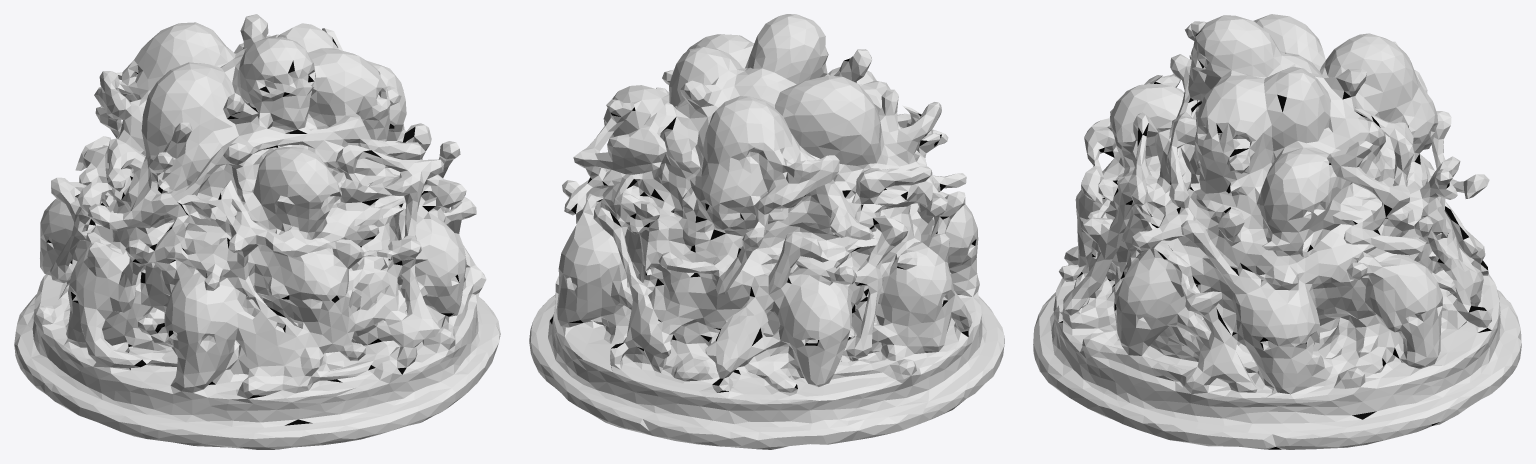
File: cat_bonepile.glb
3 views of the same model, side by side, from view 1: azimuth 30°, elevation 25°; view 2: azimuth 150°, elevation 25°; view 3: azimuth 270°, elevation 25° (orthographic). The views are drawn at different scales.
Visible parts, largest first — view 1: Low; view 2: Low; view 3: Low.
Part boxes in pixels (left/top/right/bottom): Low: left=14, top=14, right=500, bottom=449; Low: left=529, top=14, right=1004, bottom=449; Low: left=1033, top=14, right=1521, bottom=449.
Size of the model in its own units: 1.98 by 1.49 by 1.98.
1 material, 1 textured.
